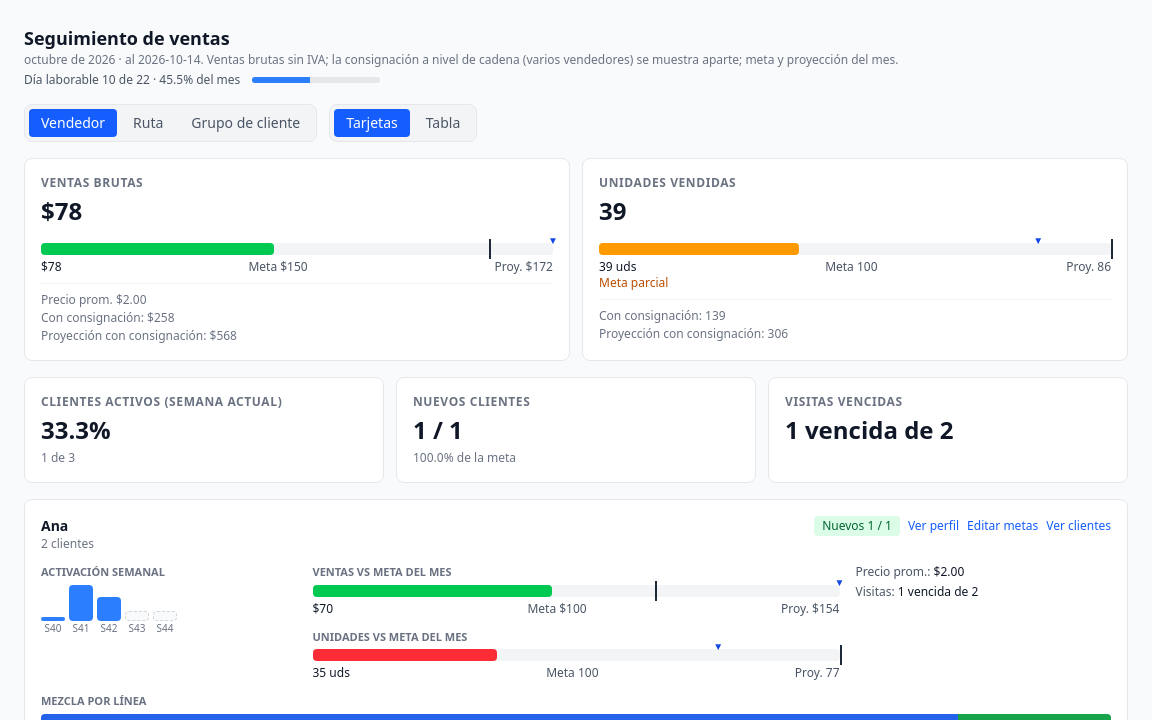
Test case: TabSeguimiento › table view lists units, unit goal, attainment and projected units per root
The width and height of the screenshot is (1152, 720).
Check: the heading "Seguimiento de ventas" is shown, box [24,26,230,50]
Click the button "Tabla".
click(443, 123)  # box [414,109,472,137]
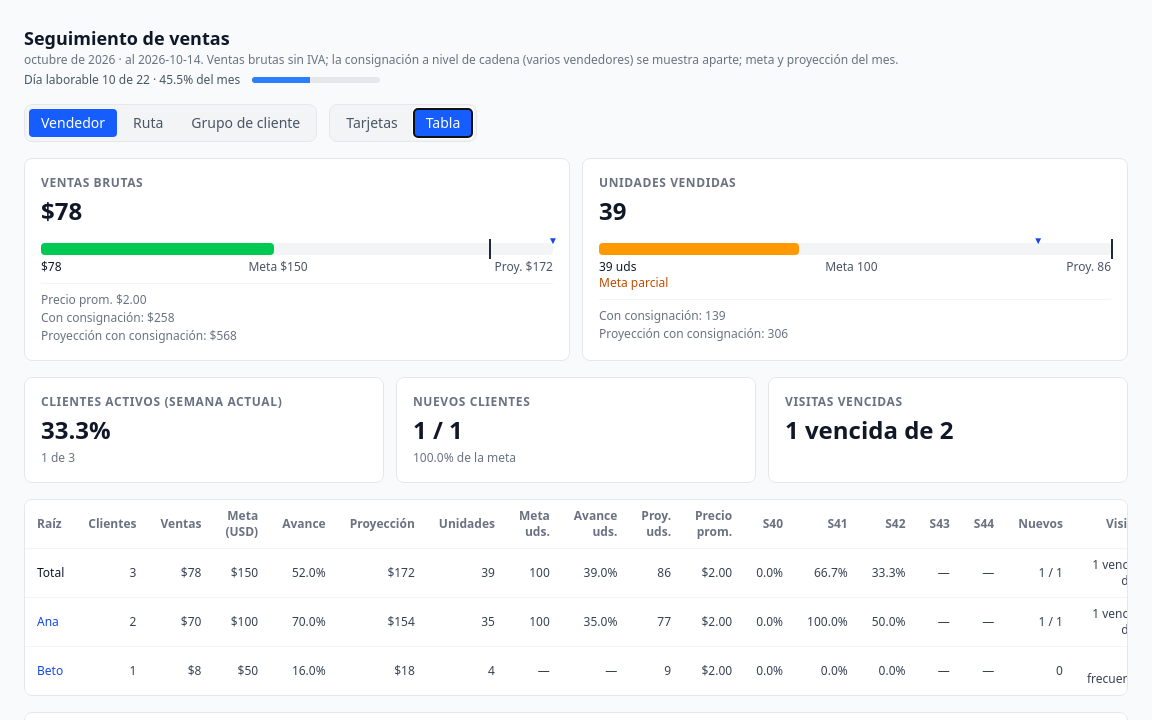
Check: the column heading "Meta uds." is shown, box [507,500,562,548]
Check: the column heading "Avance uds." is shown, box [562,500,629,548]
Check: the column heading "Proy. uds." is shown, box [629,500,683,548]
